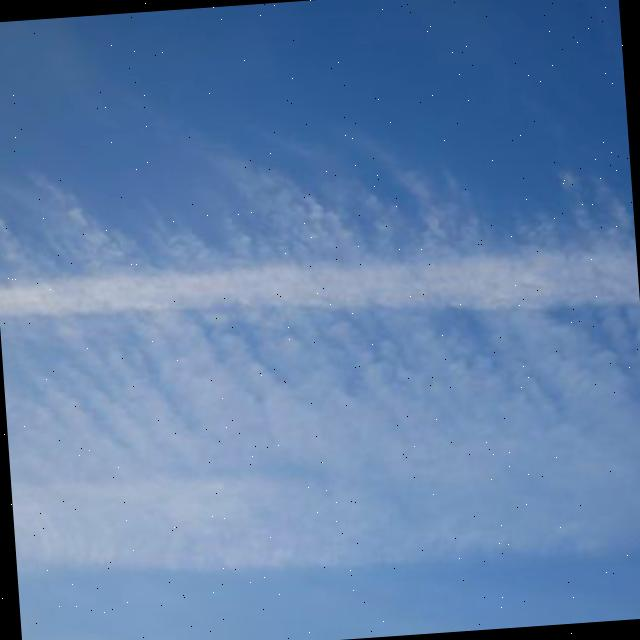Ct: (1, 35, 640, 475)
